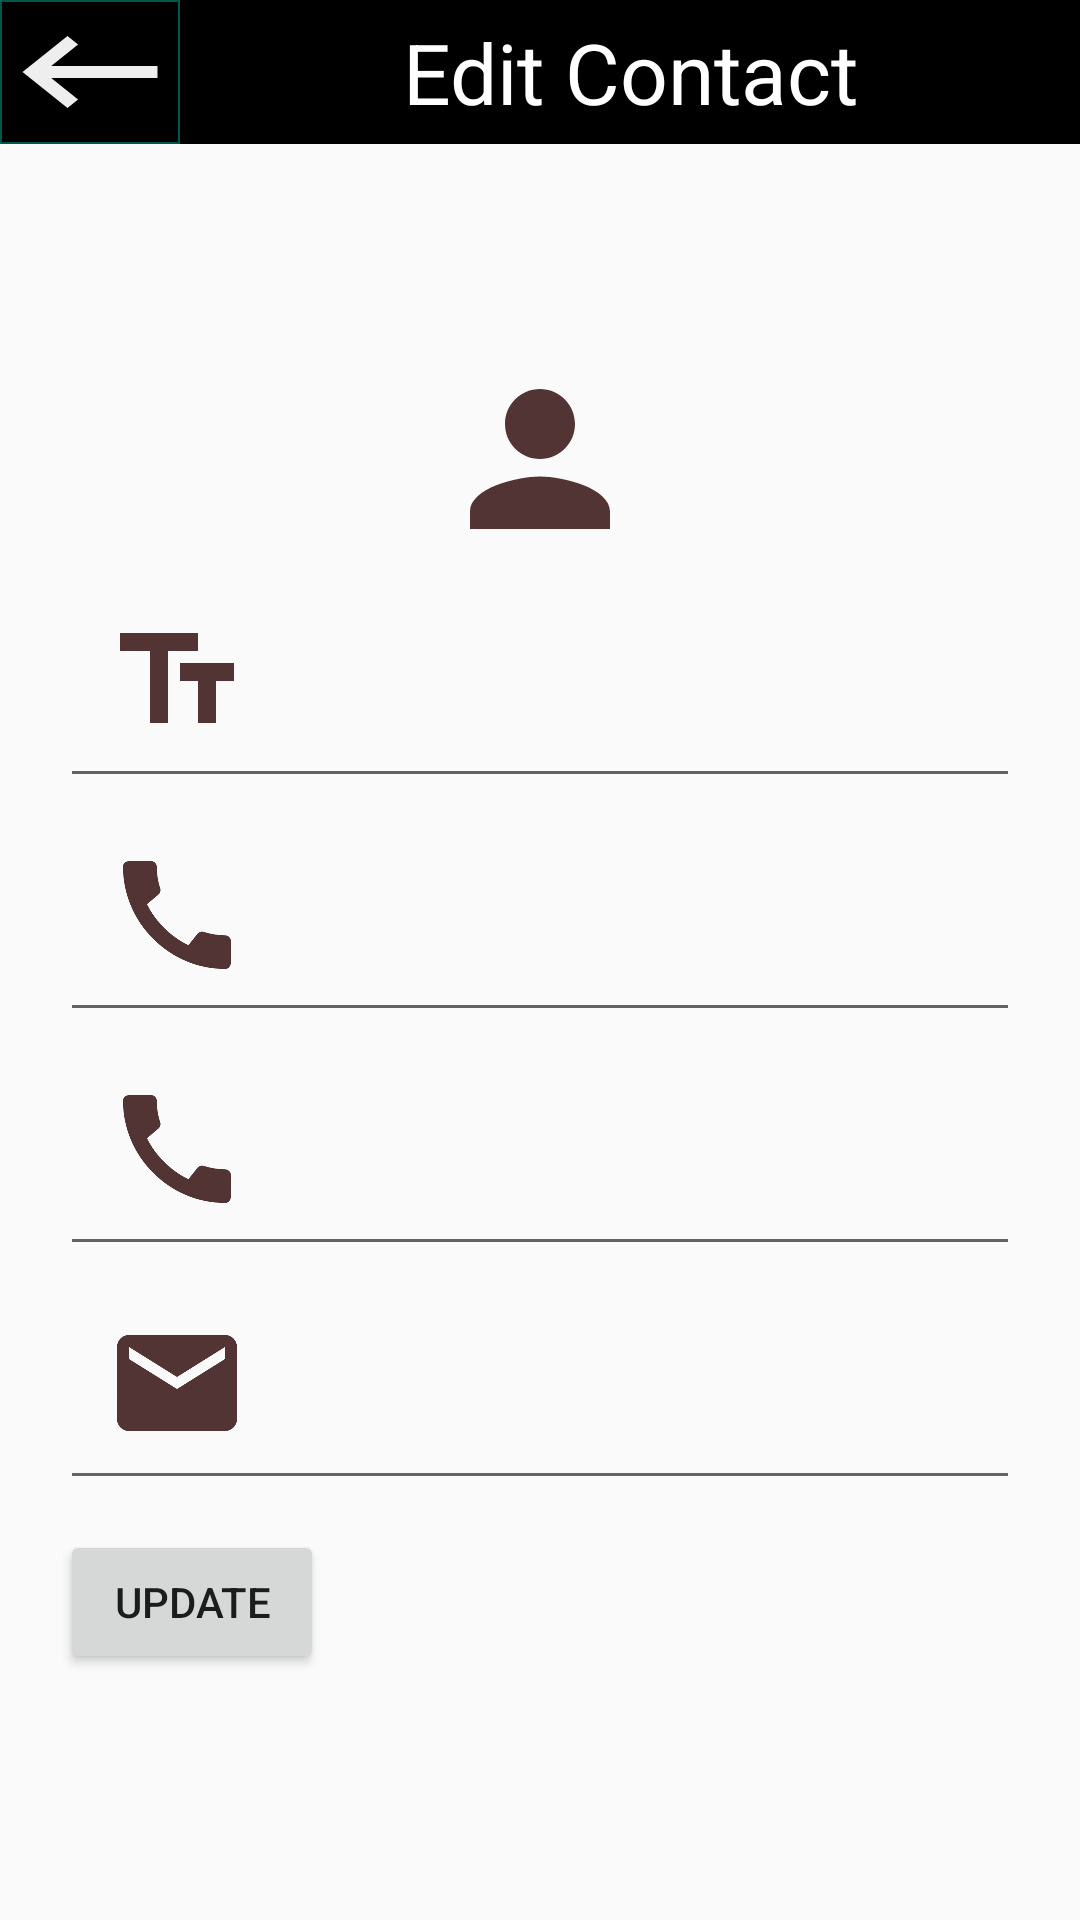

Where to tap for icons on this 1080*1920 app screen, as [x,y]:
contact image: [540,459]
